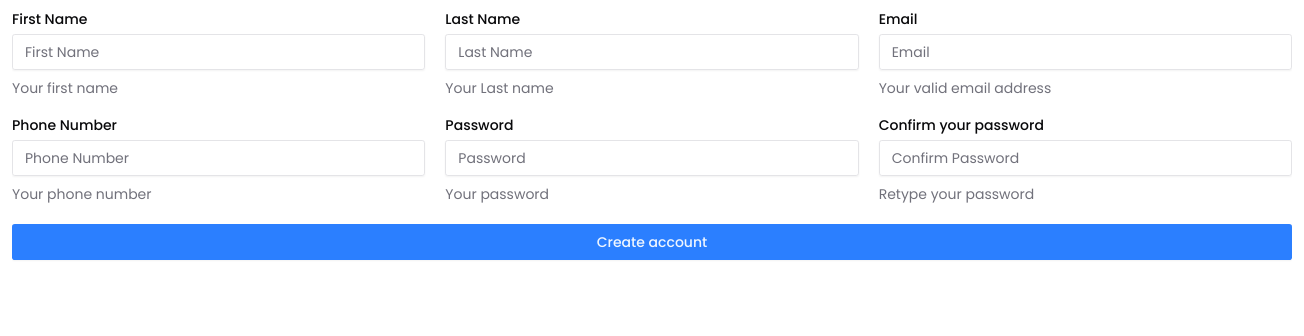
Test: UserSignUpForm › displays validation errors for empty form submission
# Submit the empty form
Click the button "Create account" at (652, 242), box [12, 224, 1292, 260]
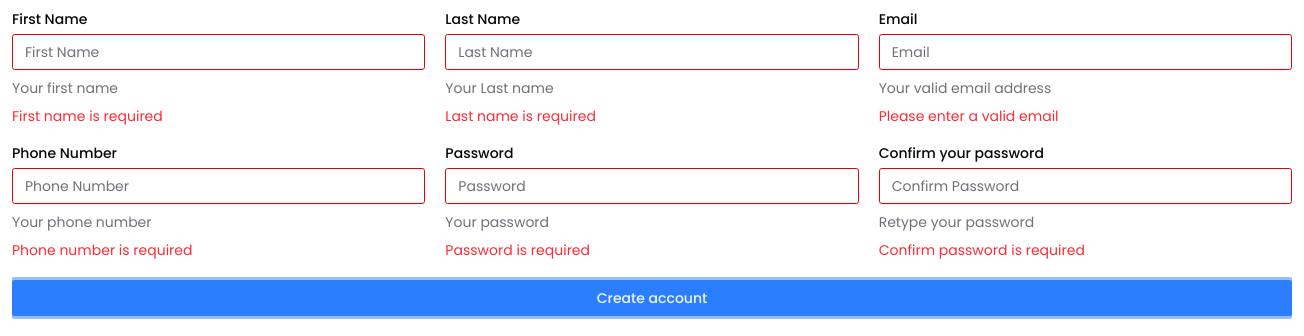
Check: the field with placeholder "First Name" is shown, box [12, 34, 425, 70]
Check: the text "First name is required" is shown, box [12, 106, 163, 126]
